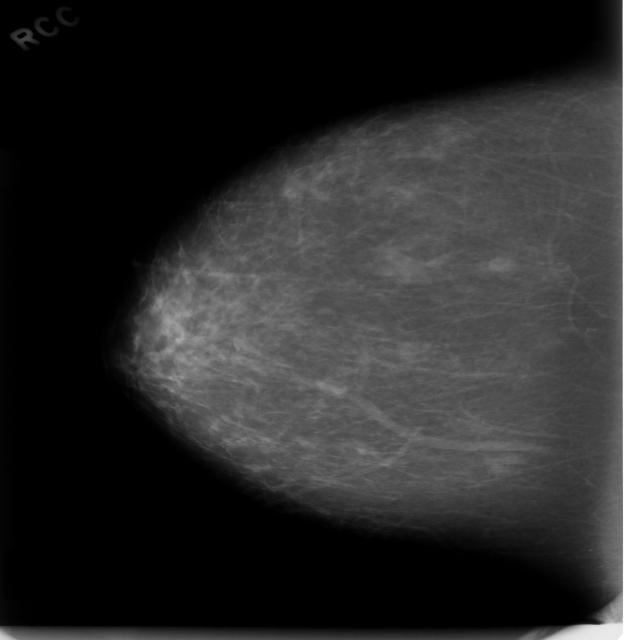normal: (102, 80, 640, 523)
